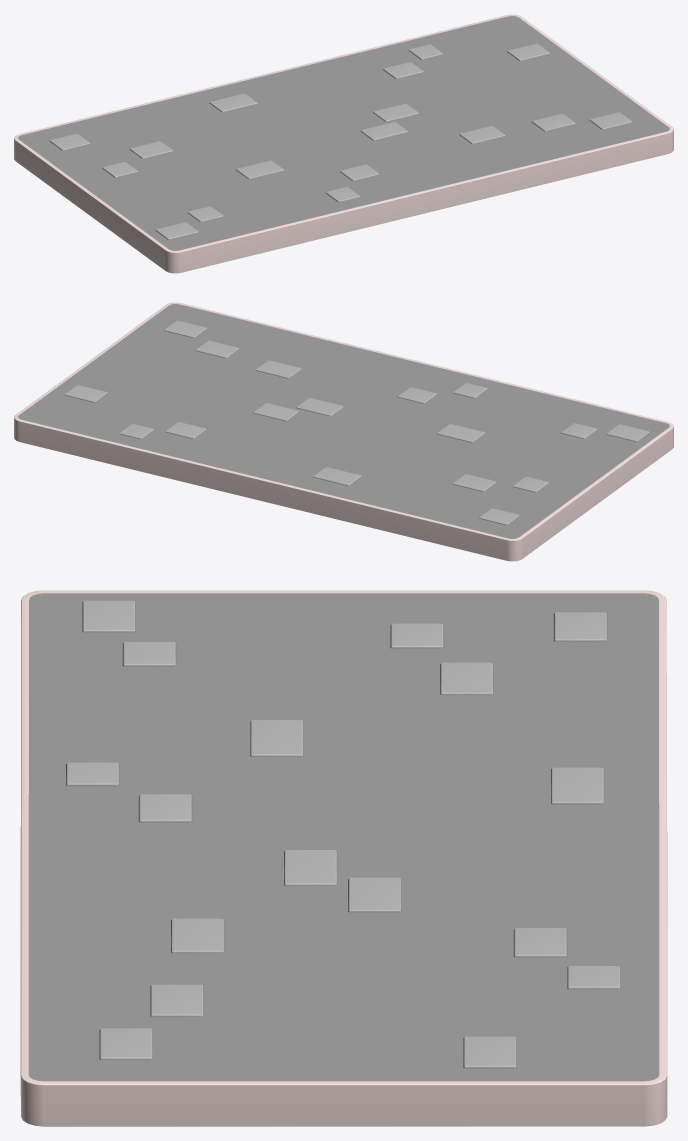
File: Public_9_Base_1.glb
3 renders of one model, top to bottom at view 1: azimuth 30°, elevation 25°; view 2: azimuth 150°, elevation 25°; view 3: azimuth 270°, elevation 25°, orthographic. The views are drawn at different scales.
Visible parts, largest first — view 1: Public_9_Base_1; view 2: Public_9_Base_1; view 3: Public_9_Base_1.
Part boxes in pixels (x1,y1,x2,y2): Public_9_Base_1: (14,14,673,273); Public_9_Base_1: (14,302,673,561); Public_9_Base_1: (20,590,667,1126).
Bounding box in the file's own units: 31.86 × 1.34 × 17.59.
Materials: 1 (1 with a texture image).
